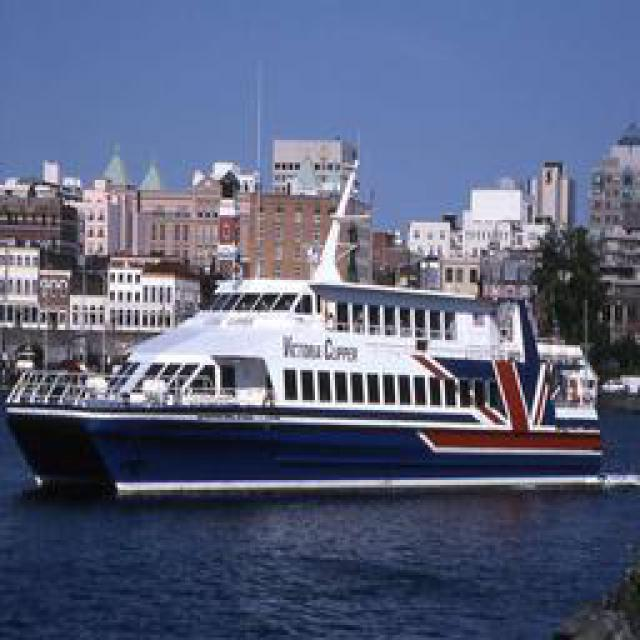Ship: (12, 251, 622, 499)
